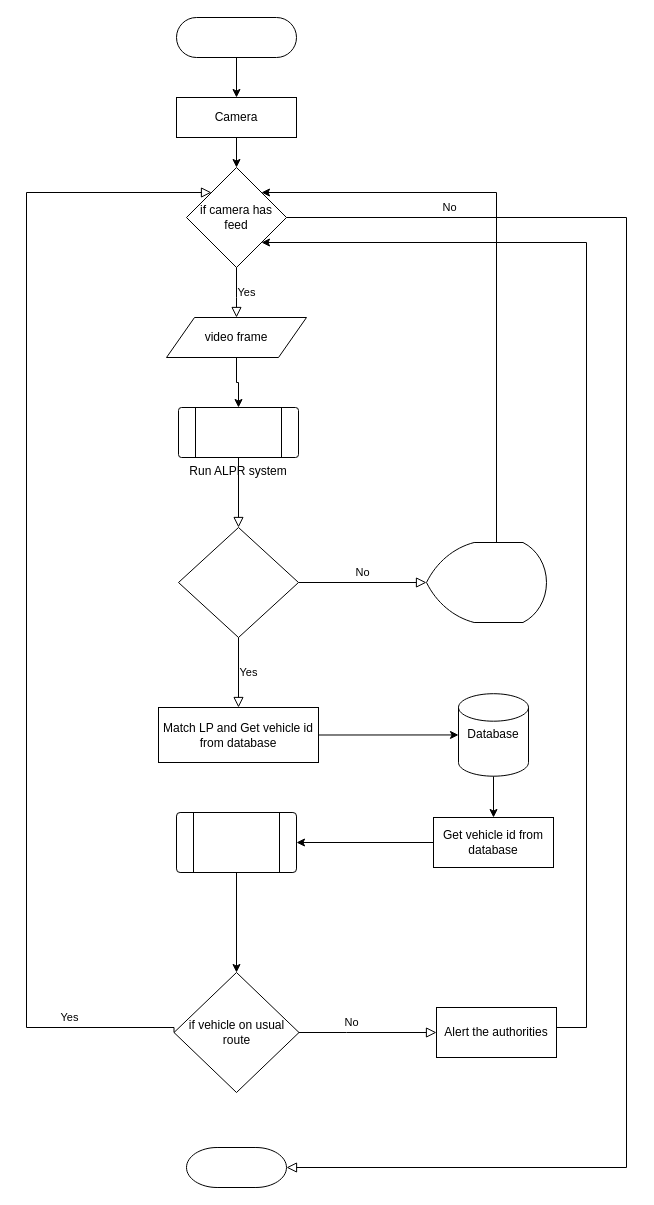
The diagram is 654 pixels wide and 1205 high, and some of its shapes have lost their labels. Each missing label, with the box of its shape:
End: (186, 1146, 286, 1188)
get usual route of the vehicle: (176, 812, 296, 872)
if vehicle's LP detected: (178, 526, 298, 638)
no detection from ALPR: (426, 542, 546, 622)
Start: (176, 16, 296, 58)
